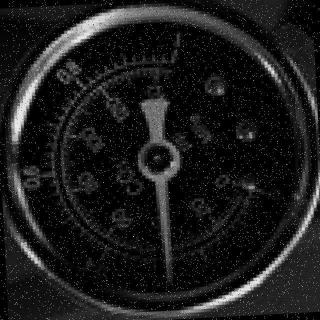gauge: (1, 1, 320, 320), (136, 137, 182, 182), (148, 39, 189, 85), (230, 168, 270, 208), (160, 270, 178, 289)
